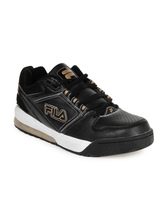shoes: (13, 61, 156, 155)
